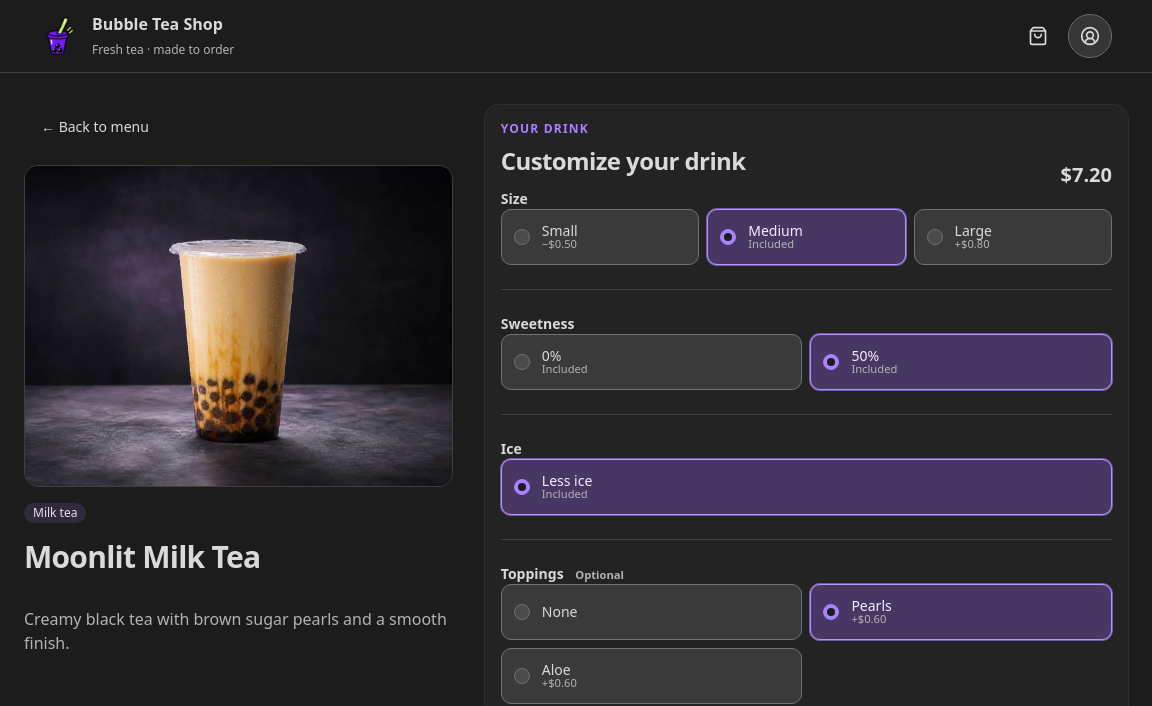
DrinkPage › lets a guest remove a defaulted optional single topping and its surcharge
Expected: the heading "Moonlit Milk Tea" is shown, x1=24 y1=536 x2=260 y2=577
Step 1. Click the radio button named "None for Toppings" → (522, 612), box x1=514 y1=604 x2=530 y2=620
(page scrolled)
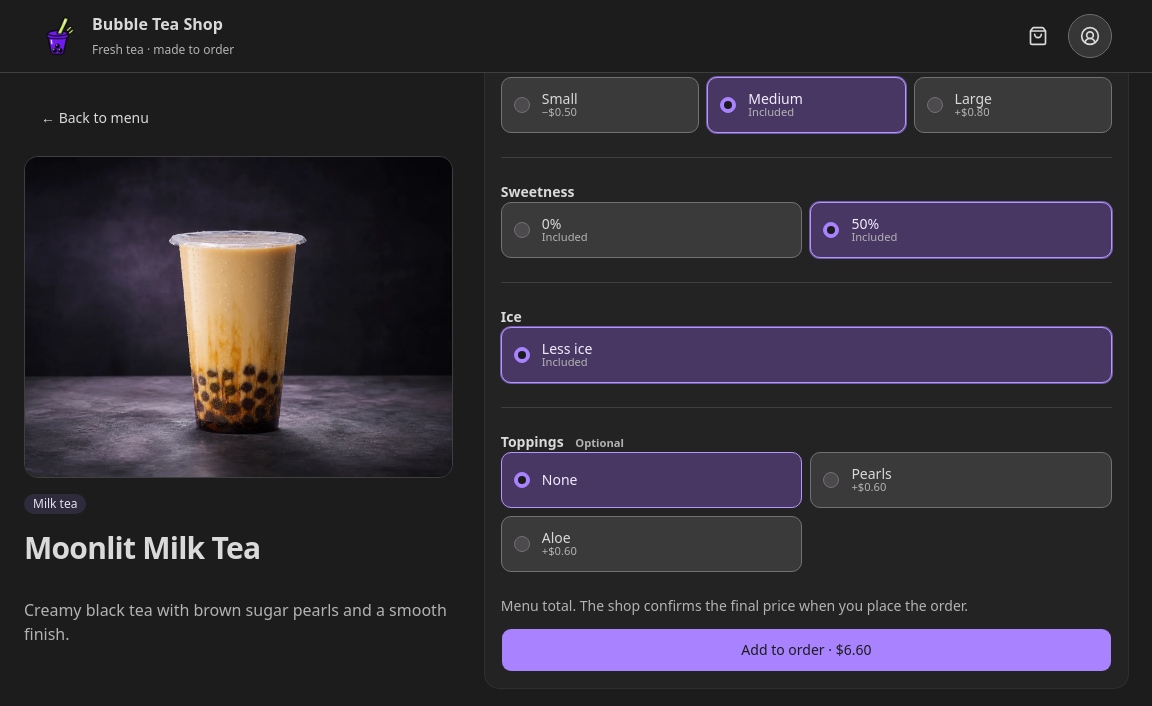
Expected: the radio button named "None for Toppings" is checked, x1=514 y1=472 x2=530 y2=488
Step 2. Click the button "Add to order · $6.60" → (806, 650), box x1=501 y1=628 x2=1112 y2=672
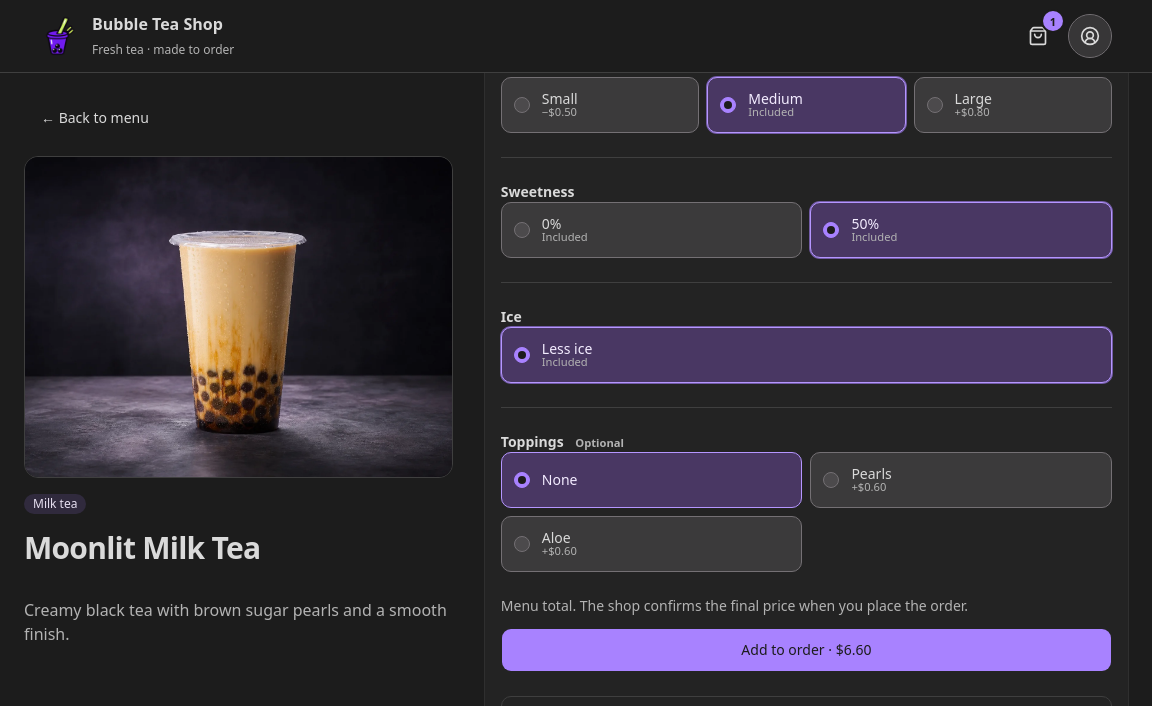
Expected: the link named "Current order, 1 item" is shown, x1=1028 y1=11 x2=1063 y2=46
